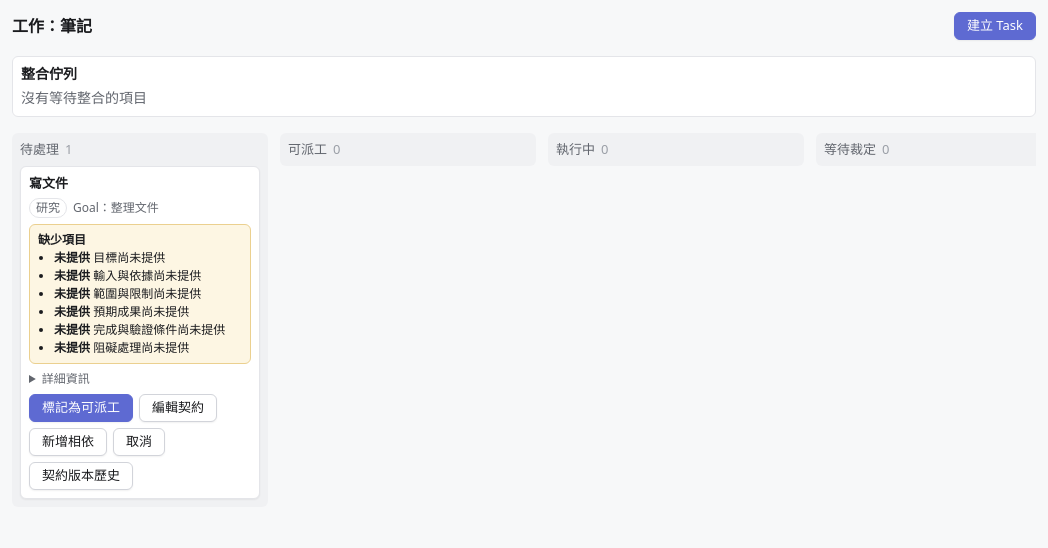
Test: 工作面板 › 標記為可派工被拒時顯示 Runtime 的說明並重新載入看板
Check: the heading "工作：筆記" is shown, box [12,16,92,36]
Click the button "標記為可派工" at (81, 408), box [29,394,133,422]
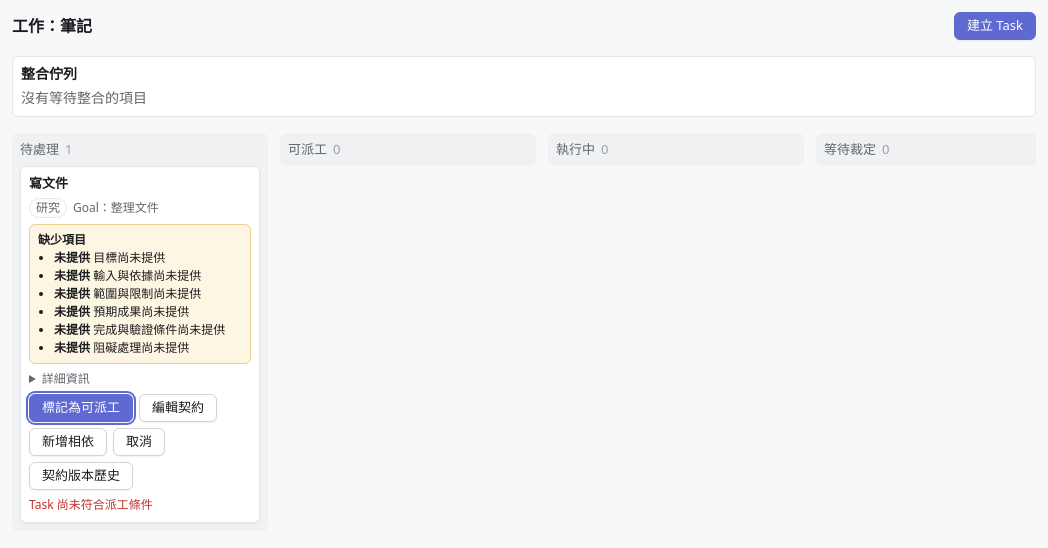
Check: the element named "待處理（1）" is shown, box [12,133,268,531]
Check: the message reads "Task 尚未符合派工條件", box [29,496,153,513]
